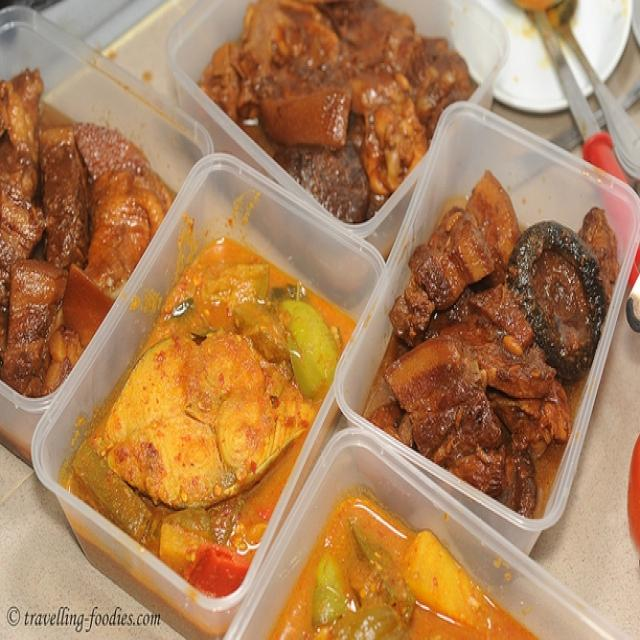牛肉菜式: (3, 8, 621, 630)
